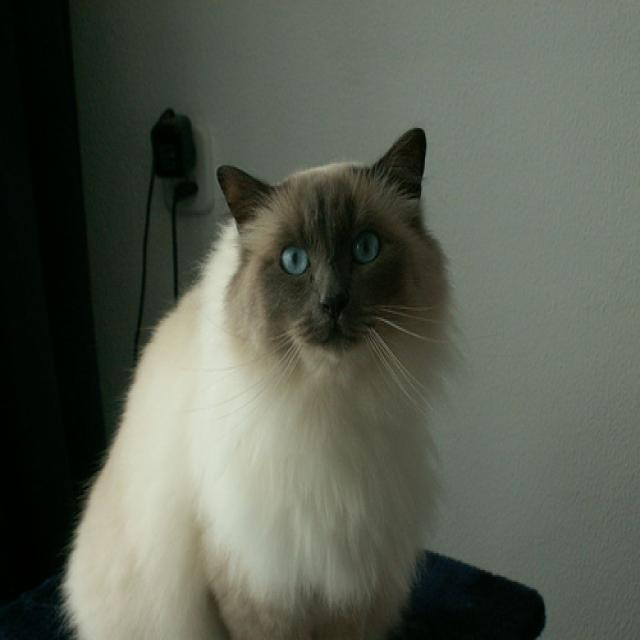Birman: (215, 125, 425, 360)
